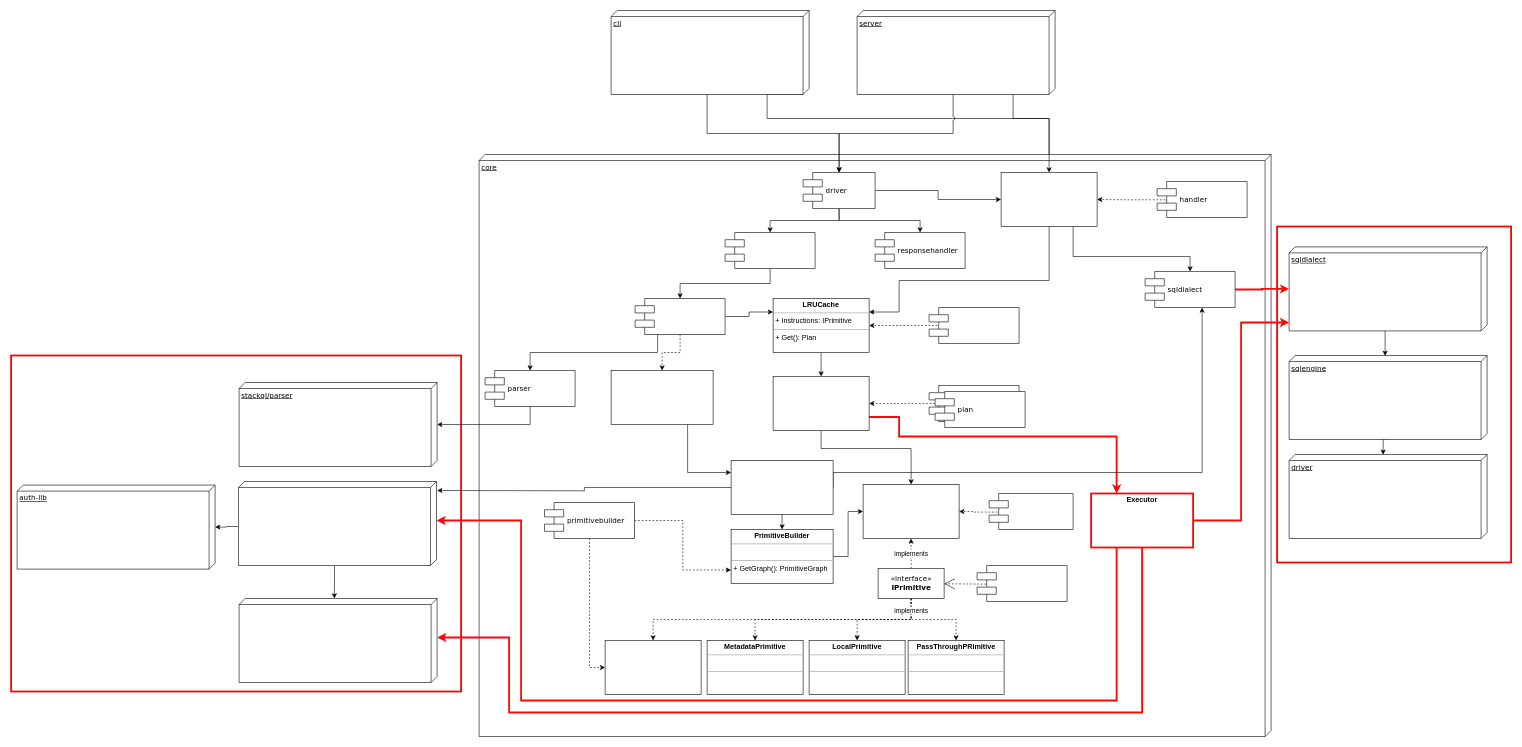
The diagram is 1522 pixels wide and 747 high, and some of its shapes have lost their labels. The shapes that lost their labels are listed below. From the top down, each one's centre as x and y in pixels, then its label:
At point (1048, 199): "HandlerContext + Instructions: IPrimitive + Get(): Plan".
At point (769, 250): "querysubmit".
At point (679, 316): "planbuilder".
At point (973, 325): "cache".
At point (661, 397): "planGraphBuilder + insertExec(): error".
At point (820, 403): "Plan +Instructions: IPrimitive + Size(): int".
At point (781, 487): "PrimitiveGenerator".
At point (337, 523): "any-sdk".
At point (910, 511): "PrimitiveGraph + Execute(): error + Optimise(): error".
At point (1030, 511): "primitivegraph".
At point (1021, 583): "primitive".
At point (652, 667): "HTTPRestPrimitive".
